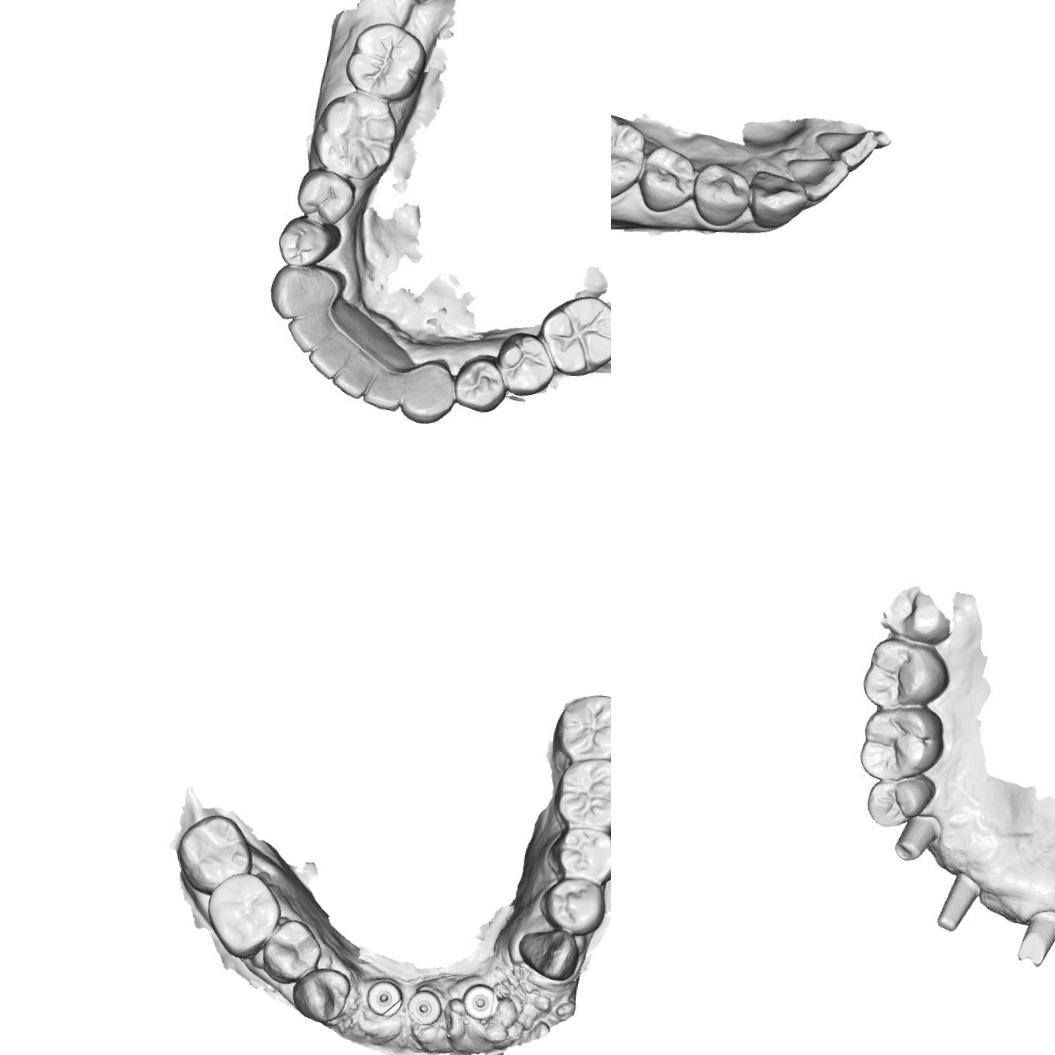abutment: (932, 866, 986, 936), (1013, 899, 1055, 972), (891, 810, 943, 864)
canine: (396, 357, 456, 427), (270, 260, 342, 318), (747, 167, 806, 230), (512, 926, 578, 980)
implant: (362, 980, 401, 1016), (463, 980, 494, 1018), (405, 989, 436, 1024)
incisor: (810, 125, 880, 171), (786, 152, 848, 202), (360, 362, 404, 413), (288, 311, 339, 352), (306, 336, 352, 380), (330, 355, 372, 400)
molar: (310, 90, 400, 182), (851, 700, 946, 784), (200, 870, 284, 962), (342, 18, 429, 102), (856, 634, 948, 712), (534, 290, 611, 380), (174, 810, 254, 894), (553, 753, 611, 832), (552, 690, 611, 767), (611, 107, 650, 202)
premolar: (688, 159, 756, 227), (536, 877, 611, 938), (862, 770, 938, 830), (256, 916, 322, 985), (494, 328, 556, 397), (636, 143, 694, 212), (292, 164, 358, 224), (289, 964, 352, 1025), (550, 823, 611, 883), (452, 351, 507, 416), (277, 215, 337, 265)
